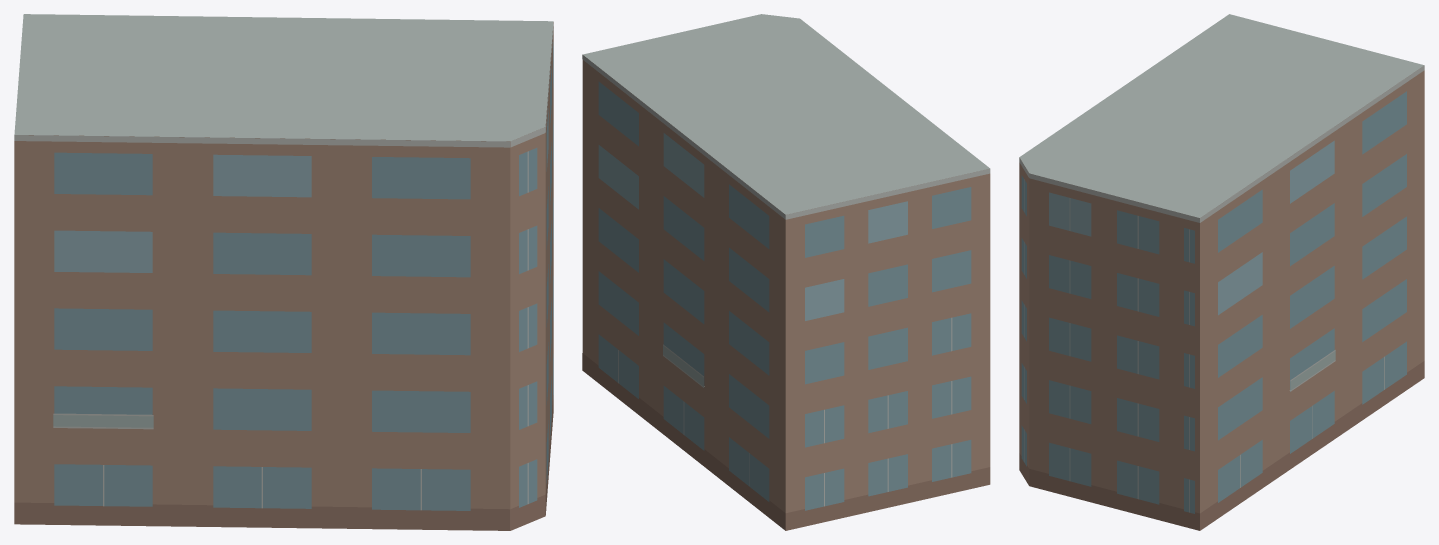
File: survey-upis-32971397.glb
3 renders of one model, left to right at view 1: azimuth 30°, elevation 25°; view 2: azimuth 150°, elevation 25°; view 3: azimuth 270°, elevation 25°, orthographic. The views are drawn at different scales.
Visible parts, largest first — view 1: survey-upis-32971397.tmp; view 2: survey-upis-32971397.tmp; view 3: survey-upis-32971397.tmp.
Part boxes in pixels (x1,y1,x2,y2): survey-upis-32971397.tmp: (14, 14, 553, 530); survey-upis-32971397.tmp: (582, 14, 990, 530); survey-upis-32971397.tmp: (1019, 14, 1424, 530).
Size of the model in its own units: 21.7 by 15.5 by 18.21.
